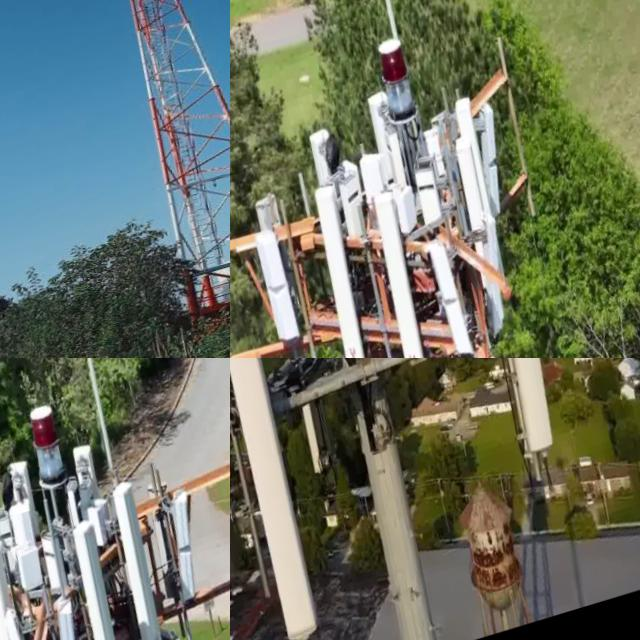GSM Antenna: (230, 358, 380, 640), (421, 358, 617, 470), (298, 177, 400, 358), (358, 186, 461, 358), (230, 358, 299, 597), (99, 476, 196, 640), (245, 358, 369, 478), (55, 510, 159, 640), (419, 226, 496, 358), (248, 221, 323, 349), (446, 135, 511, 250), (0, 535, 68, 640), (0, 508, 33, 640), (12, 542, 62, 601)
